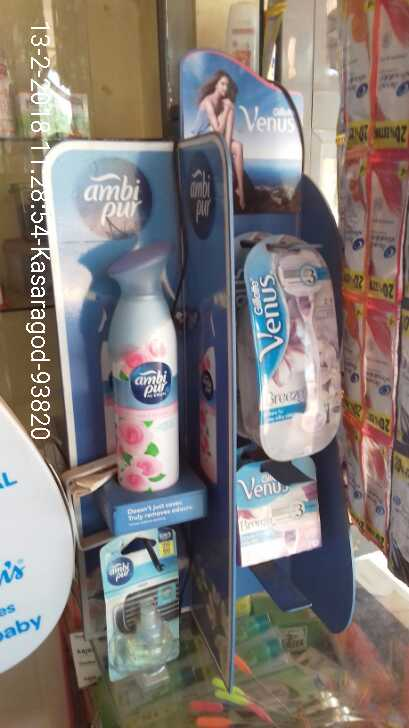beauty: (238, 235, 350, 450), (239, 457, 319, 562), (371, 9, 407, 157), (369, 162, 402, 305), (346, 2, 372, 148), (341, 157, 369, 286), (359, 428, 389, 543), (359, 312, 389, 424)
home: (86, 239, 199, 491), (88, 542, 190, 700)
